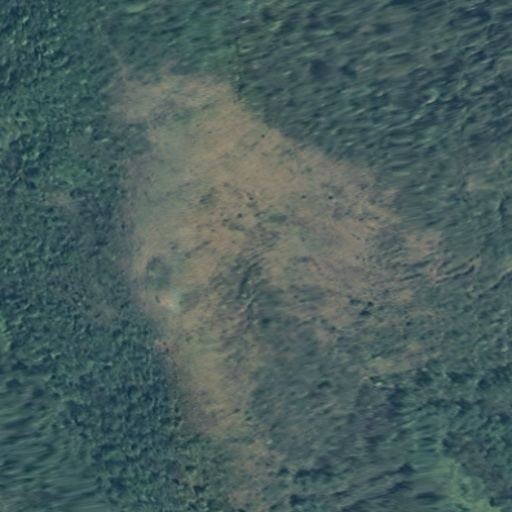landslide: (109, 80, 395, 442)
